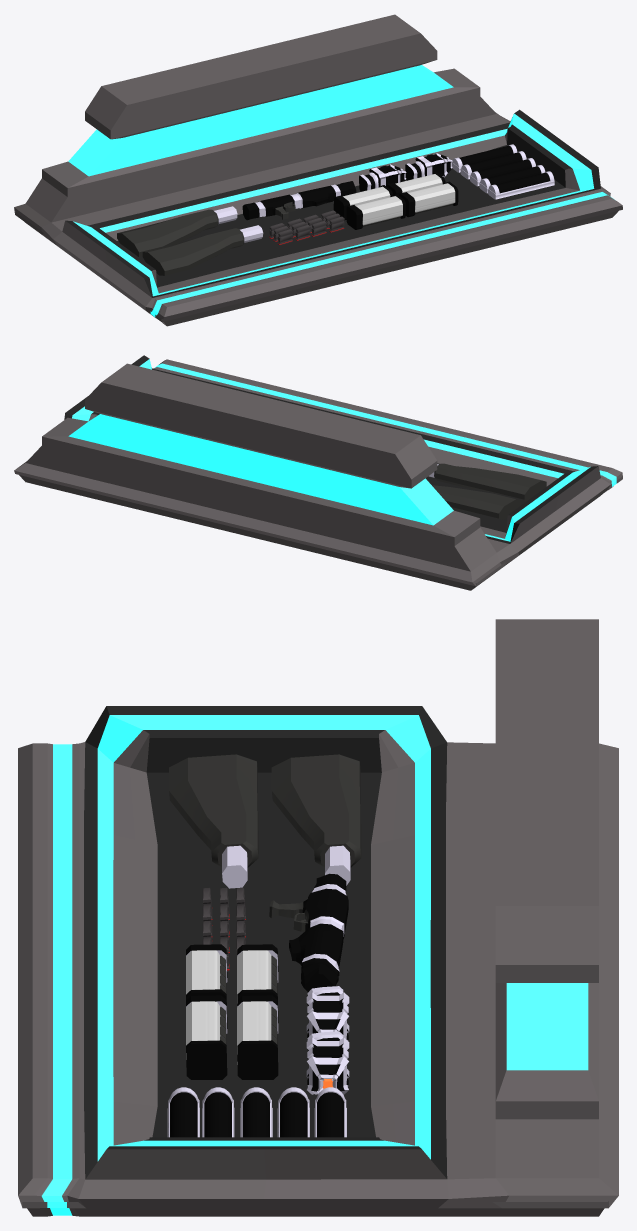
Rendered from Weapon_Assembly.fbx.
3 views of the same model, one above another, from view 1: azimuth 30°, elevation 25°; view 2: azimuth 150°, elevation 25°; view 3: azimuth 270°, elevation 25° (orthographic). The views are drawn at different scales.
Visible parts, largest first — view 1: Cube, Cube.014, Cube.102, Cube.107, TRANSPARENT COVER BARREL.002, TRANSPARENT COVER BARREL.003, Cube.016, Cube.108, TRANSPARENT COVER BARREL.007, TRANSPARENT COVER BARREL.001, Cube.030, Cube.022 (+3 smaller); view 2: Cube, Cube.014, Cube.102; view 3: Cube, Cube.102, Cube.014, Cube.107, Cube.016, Cube.108, Cube.036, Cube.040, TRANSPARENT COVER BARREL.001, TRANSPARENT COVER BARREL.007, TRANSPARENT COVER BARREL.002, TRANSPARENT COVER BARREL.003 (+6 smaller).
Boxes of the visible parts, bbox=[...] form: Cube: bbox=[14, 14, 622, 326]; Cube.014: bbox=[142, 228, 244, 275]; Cube.102: bbox=[117, 209, 218, 256]; Cube.107: bbox=[242, 181, 356, 220]; TRANSPARENT COVER BARREL.002: bbox=[408, 183, 455, 212]; TRANSPARENT COVER BARREL.003: bbox=[355, 196, 402, 225]; Cube.016: bbox=[415, 153, 452, 177]; Cube.108: bbox=[369, 164, 406, 187]; TRANSPARENT COVER BARREL.007: bbox=[343, 186, 390, 205]; TRANSPARENT COVER BARREL.001: bbox=[395, 174, 442, 192]; Cube.030: bbox=[496, 172, 550, 193]; Cube.022: bbox=[478, 159, 531, 179]; Cube: bbox=[14, 355, 622, 590]; Cube.014: bbox=[434, 463, 546, 500]; Cube.102: bbox=[432, 485, 520, 519]; Cube: bbox=[18, 619, 618, 1216]; Cube.102: bbox=[271, 754, 361, 867]; Cube.014: bbox=[169, 754, 258, 867]; Cube.107: bbox=[269, 873, 348, 992]; Cube.016: bbox=[306, 1037, 349, 1094]; Cube.108: bbox=[306, 992, 349, 1040]; Cube.036: bbox=[237, 1040, 278, 1079]; Cube.040: bbox=[186, 1040, 227, 1079]; TRANSPARENT COVER BARREL.001: bbox=[237, 1001, 271, 1064]; TRANSPARENT COVER BARREL.007: bbox=[237, 950, 271, 1003]; TRANSPARENT COVER BARREL.002: bbox=[186, 1001, 220, 1059]; TRANSPARENT COVER BARREL.003: bbox=[186, 950, 220, 994].
Size of the model in its own units: 1884 by 457 by 1053.
